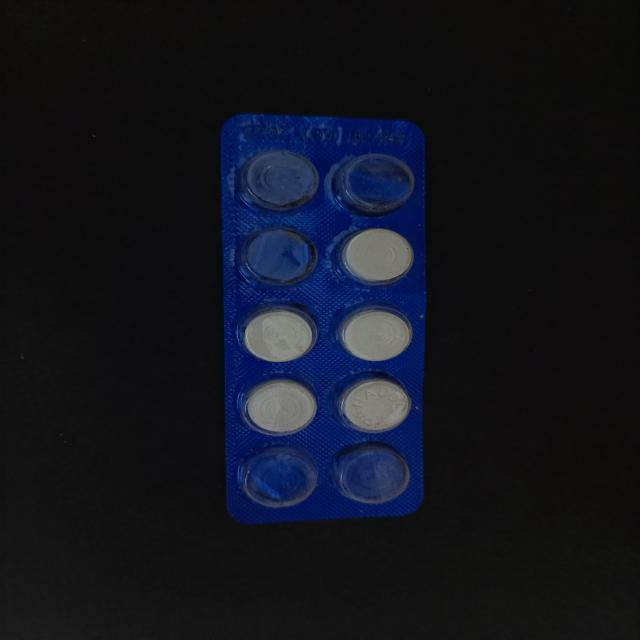defect: (231, 147, 323, 215), (330, 152, 421, 218), (234, 222, 322, 290), (328, 439, 414, 507), (235, 444, 322, 509)
